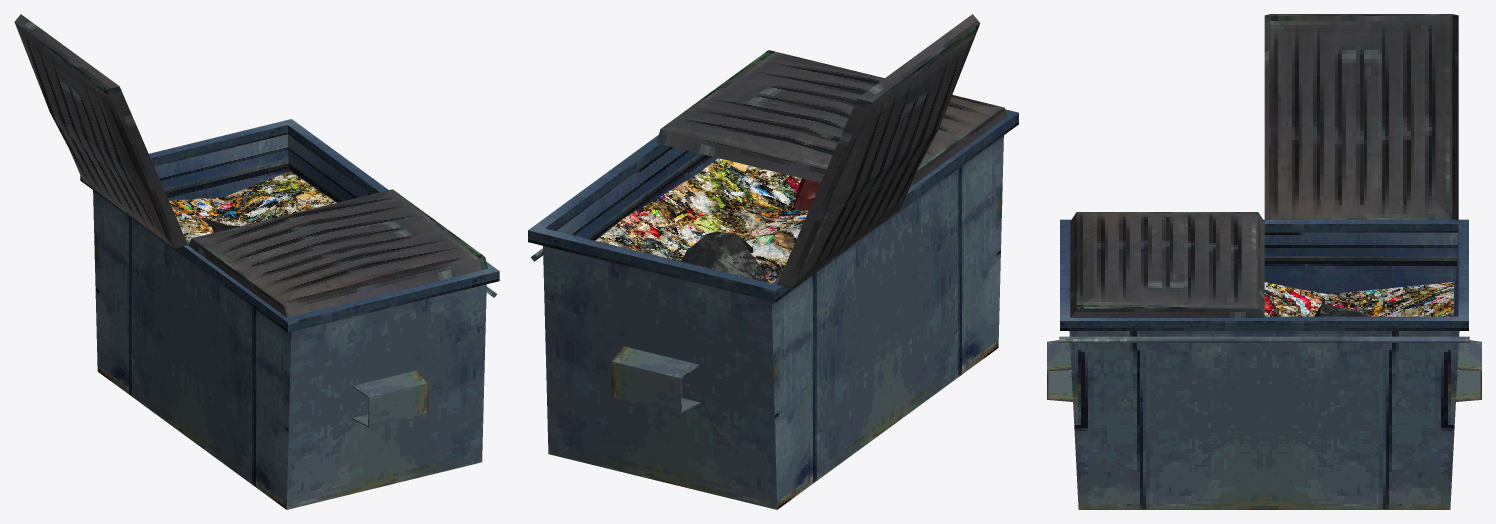
File: dumpster_full_lid_open_blue.glb
3 views of the same model, side by side, from view 1: azimuth 30°, elevation 25°; view 2: azimuth 150°, elevation 25°; view 3: azimuth 270°, elevation 25° (orthographic). The views are drawn at different scales.
Visible parts, largest first — view 1: dumpster_full_lid_open_blue; view 2: dumpster_full_lid_open_blue; view 3: dumpster_full_lid_open_blue.
Boxes of the visible parts, x1,y1,x2,y2 form: dumpster_full_lid_open_blue: (14, 14, 499, 509); dumpster_full_lid_open_blue: (528, 14, 1018, 509); dumpster_full_lid_open_blue: (1047, 14, 1481, 509).
Size of the model in its own units: 2.74 by 3.41 by 3.67.
Materials: 3 (3 with a texture image).
